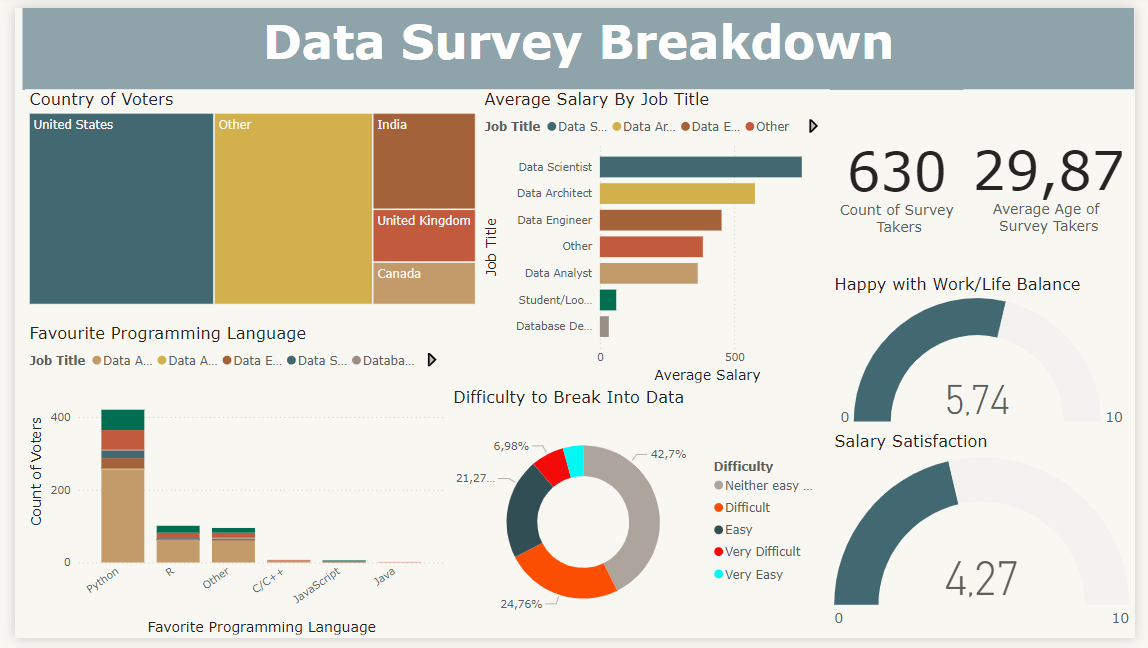

The page's visual inventory and layout, read from the dashboard file:
{"tool":"powerbi","page":{"name":"Page 1","canvas":[1280,720],"ordinal":0},"visuals":[{"type":"textbox","box":[8.2,0,1270.7,93.3],"z":0},{"type":"card","fields":{"Values":["CountNonNull(Data Professional Survey (2).Unique ID)"]},"box":[931.4,98.6,152.9,188.6],"z":1000},{"type":"card","fields":{"Values":["Avg(Data Professional Survey (2).Q10 - Current Age)"]},"box":[1084.3,92.9,194.3,198.6],"z":2000},{"type":"barChart","title":"Average Salary By Job Title","fields":{"Category":["Data Professional Survey (2).Q1 - Which Title Best Fits your Current Role?.1"],"Y":["Avg(Data Professional Survey (2).Average Salary)"],"Series":["Data Professional Survey (2).Q1 - Which Title Best Fits your Current Role?.1"]},"box":[531.4,92.9,400,340],"z":3000},{"type":"columnChart","title":"Favourite Programming Language","fields":{"Category":["Data Professional Survey (2).Q5 - Favorite Programming Language.1"],"Y":["CountNonNull(Data Professional Survey (2).Unique ID)"],"Series":["Data Professional Survey (2).Q1 - Which Title Best Fits your Current Role?.1"]},"box":[11,359.5,484.4,360.9],"z":4000},{"type":"treemap","title":"Country of Voters","fields":{"Group":["Data Professional Survey (2).Q11 - Which Country do you live in?.1"],"Values":["CountNonNull(Data Professional Survey (2).Q11 - Which Country do you live in?.1)"]},"box":[11,93.3,520.1,251.1],"z":5000},{"type":"gauge","title":"Happy with Work/Life Balance","fields":{"Y":["Avg(Data Professional Survey (2).Q6 - How Happy are you in your Current Position with the following? (Work/Life Balance)"],"MinValue":["Min(Data Professional Survey (2).Q6 - How Happy are you in your Current Position with the following? (Work/Life Balance)"],"MaxValue":["Max(Data Professional Survey (2).Q6 - How Happy are you in your Current Position with the following? (Work/Life Balance)"]},"box":[931.4,304.3,347.1,178.6],"z":6000},{"type":"gauge","title":"Salary Satisfaction","fields":{"Y":["Avg(Data Professional Survey (2).Q6 - How Happy are you in your Current Position with the following? (Salary))"],"MinValue":["Min(Data Professional Survey (2).Q6 - How Happy are you in your Current Position with the following? (Salary))"],"MaxValue":["Max(Data Professional Survey (2).Q6 - How Happy are you in your Current Position with the following? (Salary))"]},"box":[931.4,482.9,347.1,237.1],"z":7000},{"type":"donutChart","title":"Difficulty to Break Into Data","fields":{"Category":["Data Professional Survey (2).Q7 - How difficult was it for you to break into Data?"],"Y":["CountNonNull(Data Professional Survey (2).Q7 - How difficult was it for you to break into Data?)"]},"box":[495.7,432.9,435.7,287.1],"z":8000}]}

Visuals, with their boxes in screenshot pixels (x1, y1, x2, y2), scaled from the page's 1280x720 canvas onto the 1148x648 screenshot:
textbox: x1=7, y1=0, x2=1147, y2=84
card - CountNonNull(Data Professional Survey (2).Unique ID): x1=835, y1=89, x2=972, y2=258
card - Avg(Data Professional Survey (2).Q10 - Current Age): x1=972, y1=84, x2=1147, y2=262
"Average Salary By Job Title" barChart: x1=477, y1=84, x2=835, y2=390
"Favourite Programming Language" columnChart: x1=10, y1=324, x2=444, y2=647
"Country of Voters" treemap: x1=10, y1=84, x2=476, y2=310
"Happy with Work/Life Balance" gauge: x1=835, y1=274, x2=1147, y2=435
"Salary Satisfaction" gauge: x1=835, y1=435, x2=1147, y2=647
"Difficulty to Break Into Data" donutChart: x1=445, y1=390, x2=835, y2=647
